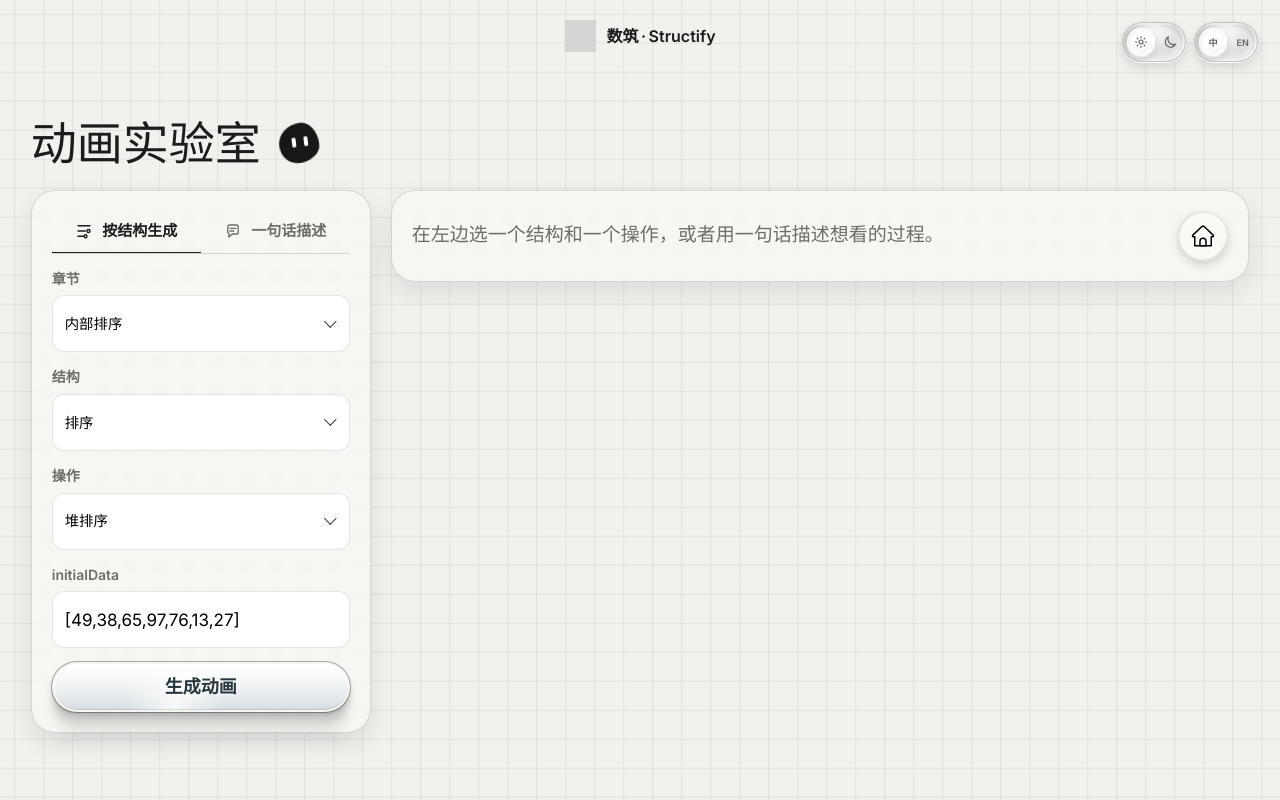
Scenario: animation lab › switches between the structured and sentence panels without losing either panel's input
Click the tab "一句话描述". click: [275, 232]
box: top-left (201, 210), bottom-right (350, 252)
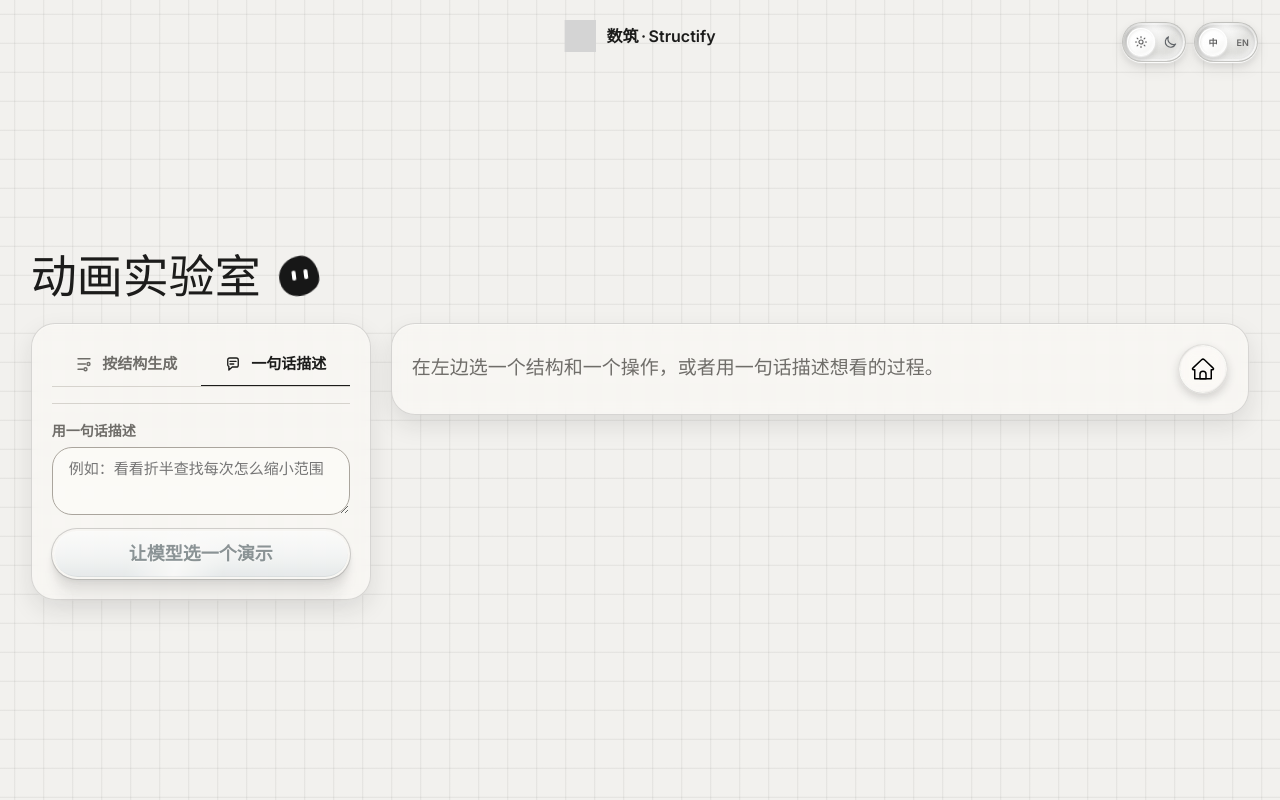
Expected: the tab "一句话描述" is shown, top-left (201, 344), bottom-right (350, 386)
Expected: the text box labelled "用一句话描述" is shown
Type "看看快速排序如何分区" into the text box labelled "用一句话描述". click: [201, 481]
box: top-left (52, 447), bottom-right (350, 515)
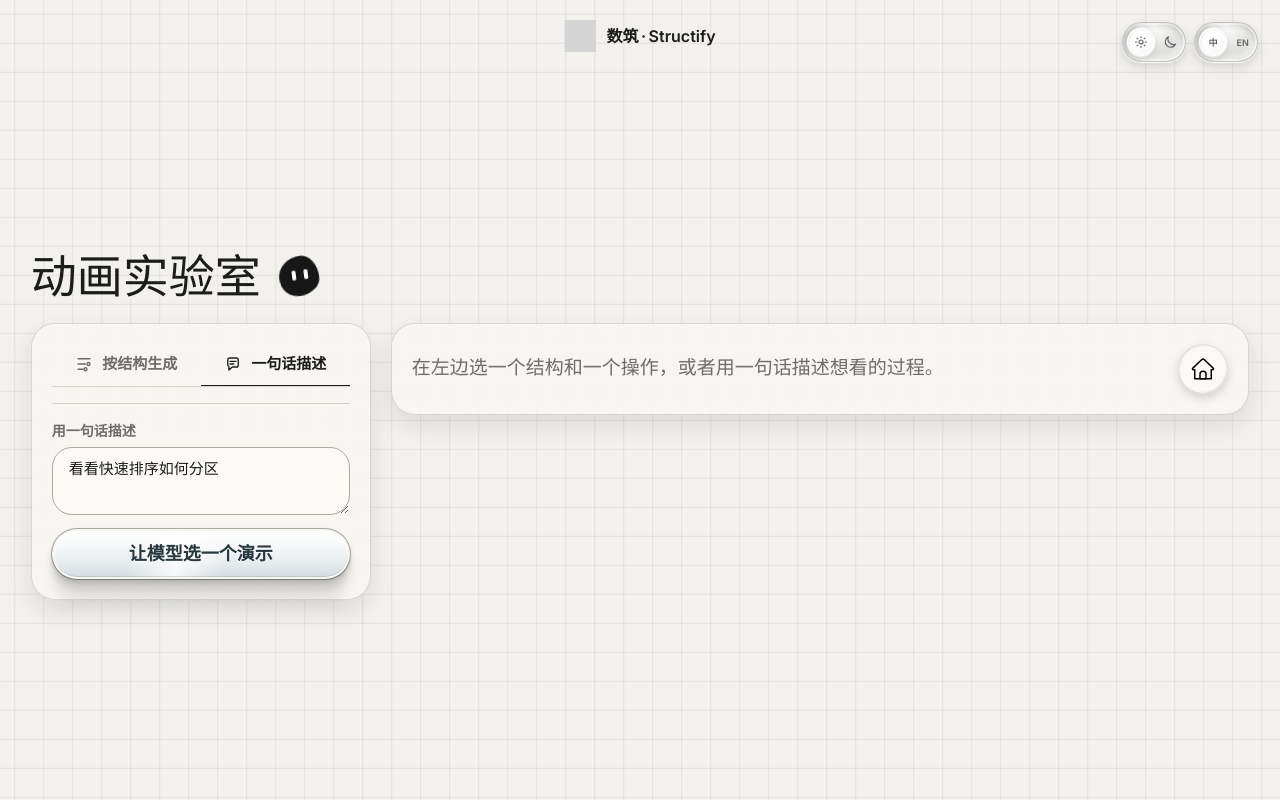
Click the tab "按结构生成". click: [126, 364]
box: top-left (52, 344), bottom-right (201, 386)
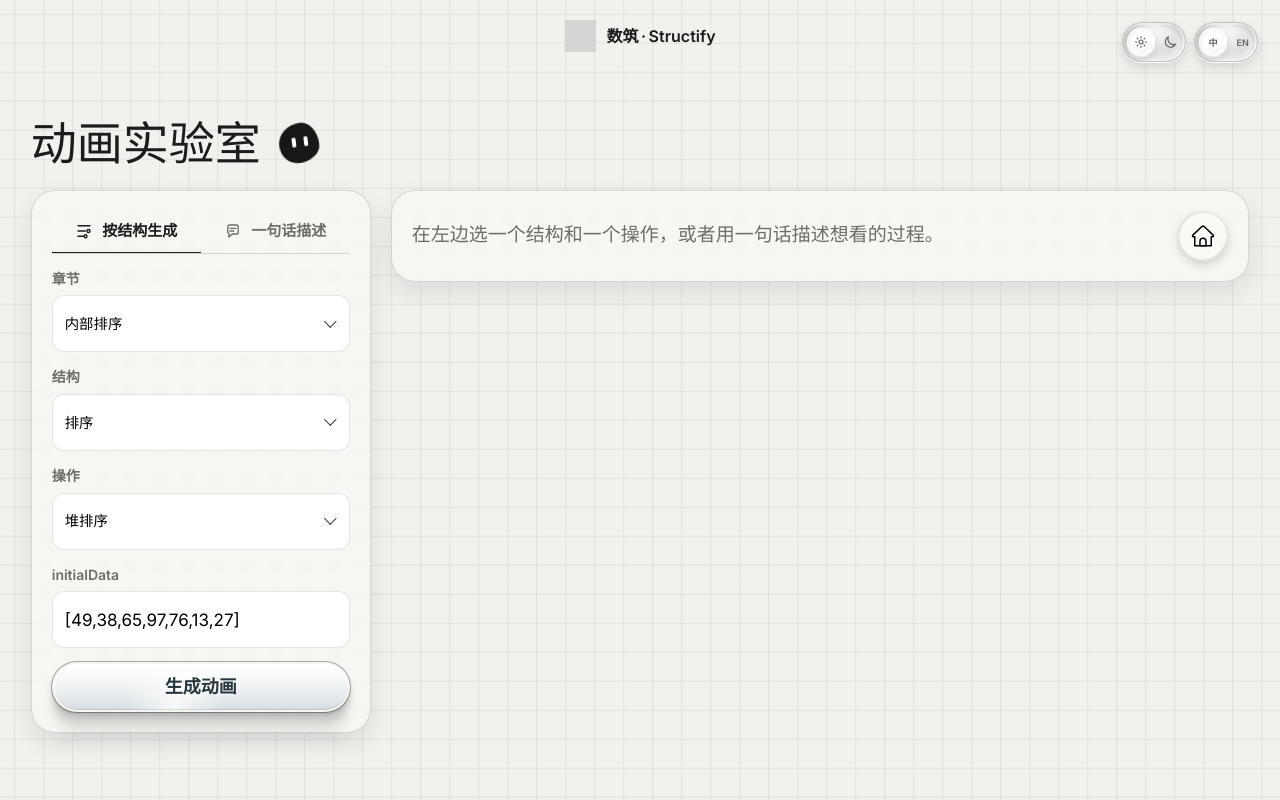
Click the tab "一句话描述". click: [275, 232]
box: top-left (201, 210), bottom-right (350, 252)
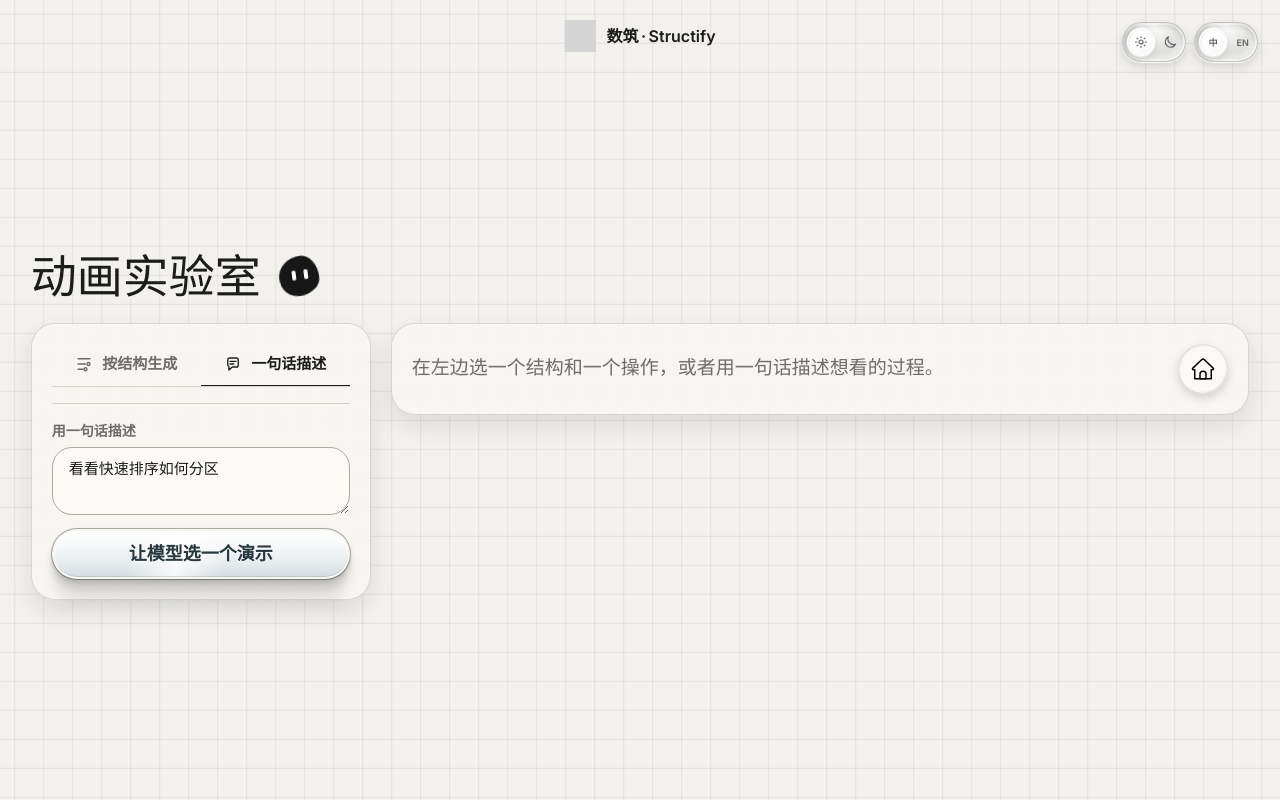
Expected: the text box labelled "用一句话描述" holds "看看快速排序如何分区", top-left (52, 447), bottom-right (350, 515)
